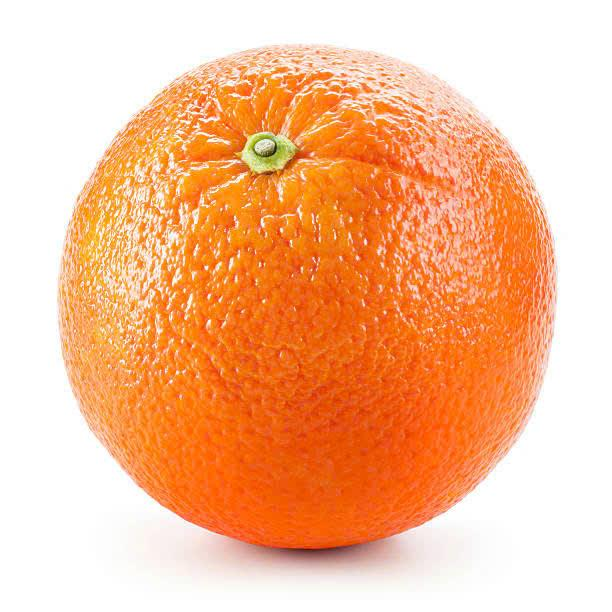orange: (49, 43, 566, 566)
